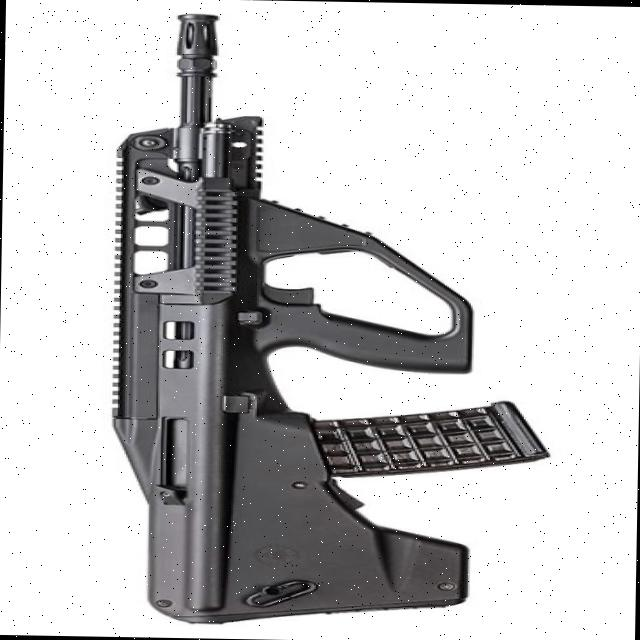Automaticrifle: (111, 4, 550, 628)
